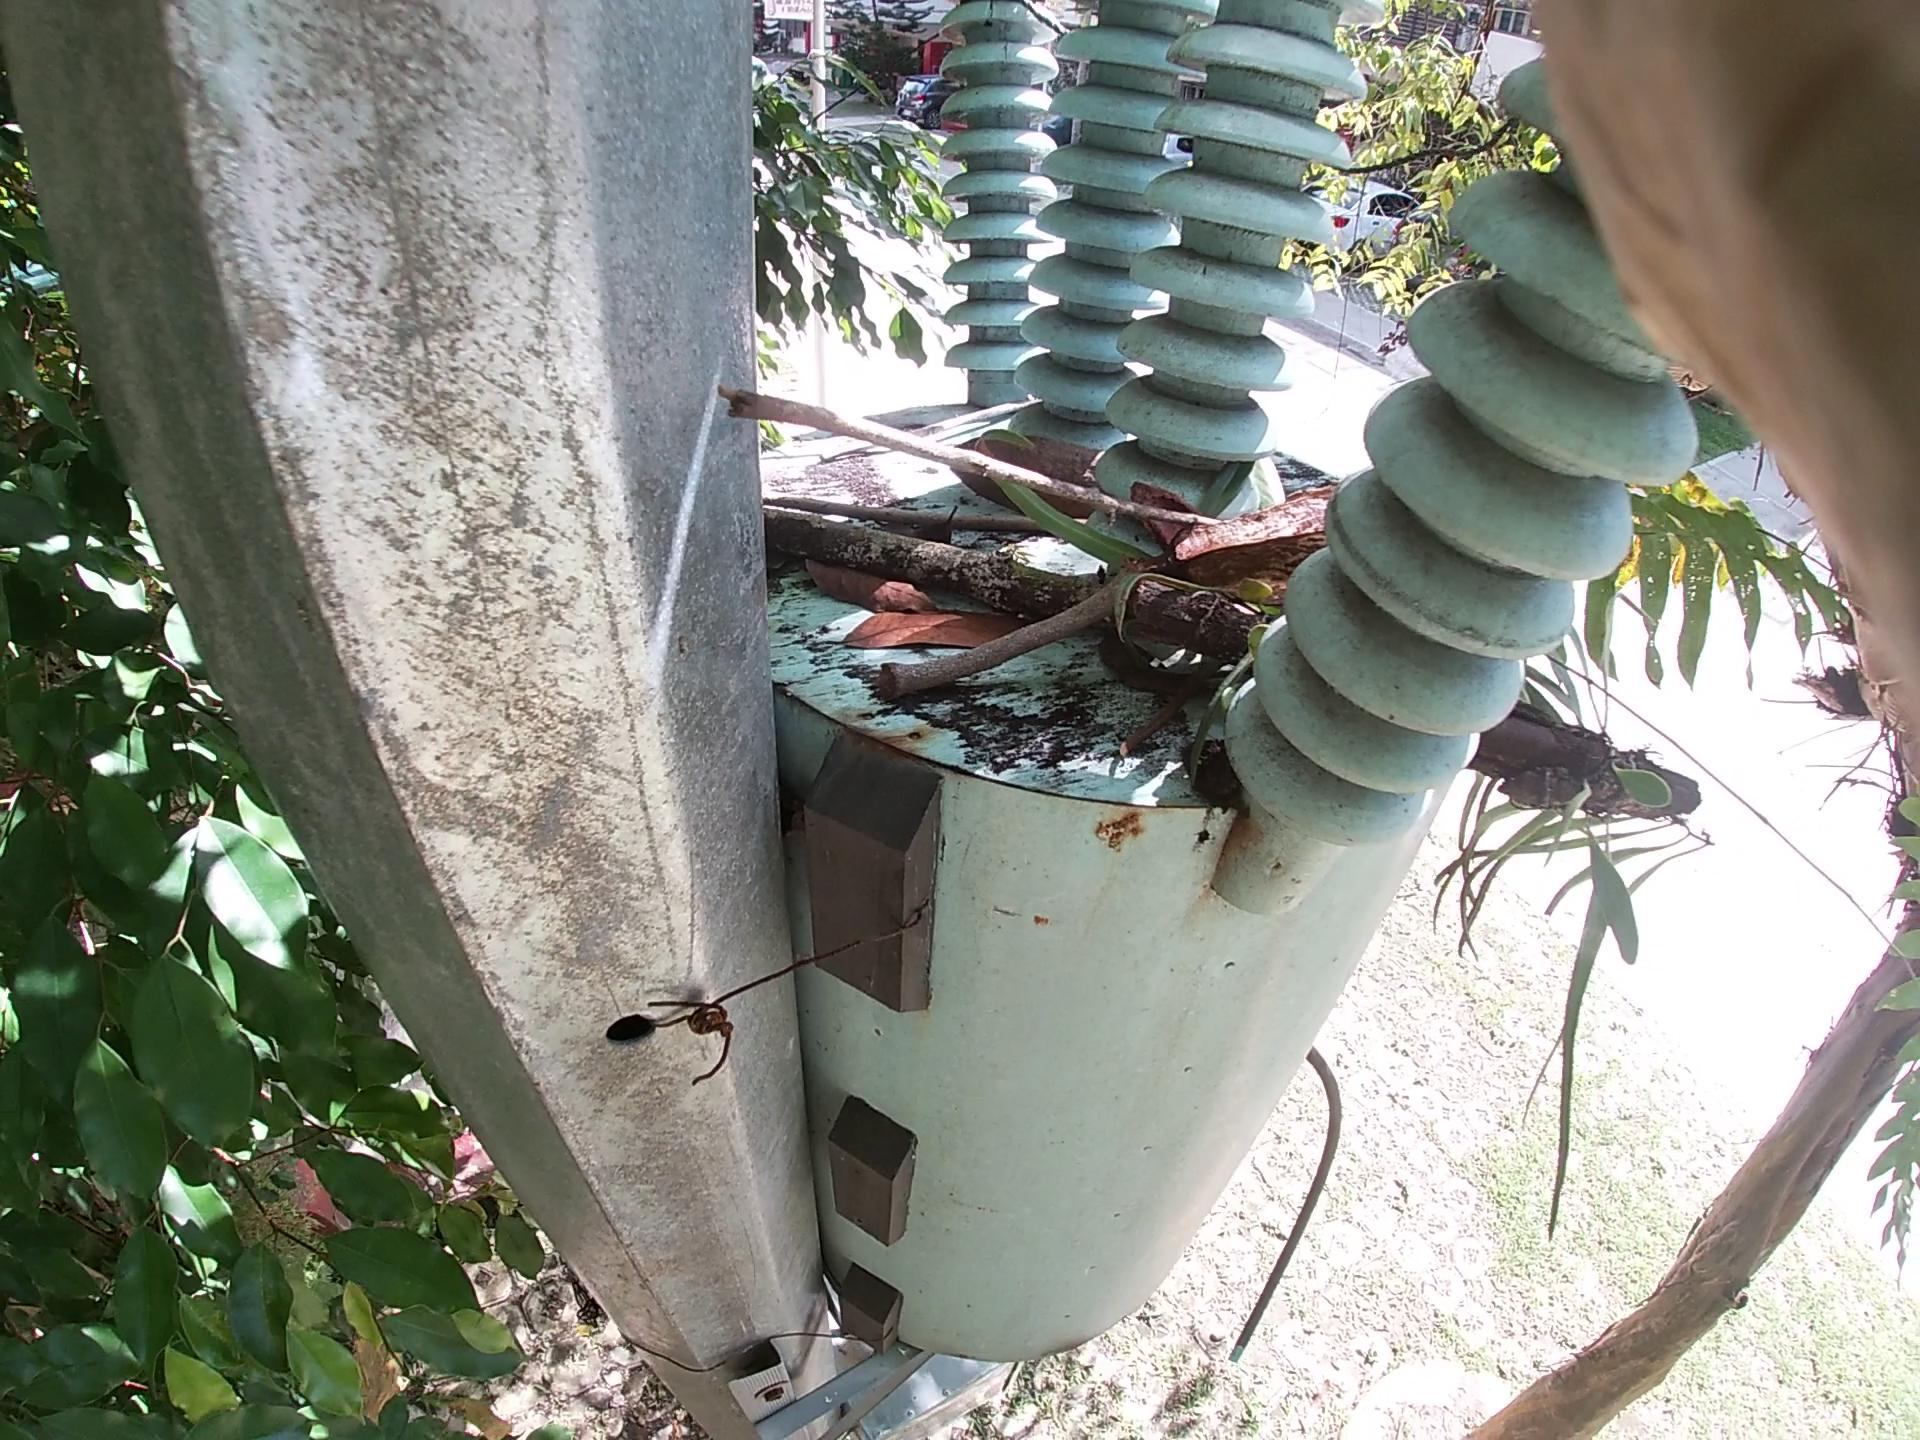branch with leaves: (739, 461, 1672, 853)
leaf: (850, 570, 963, 653)
mahogany fruit: (1134, 466, 1421, 629), (949, 405, 1161, 546)
tree branch: (703, 357, 1285, 576), (931, 476, 1324, 734), (831, 355, 1119, 489), (819, 551, 986, 703)
